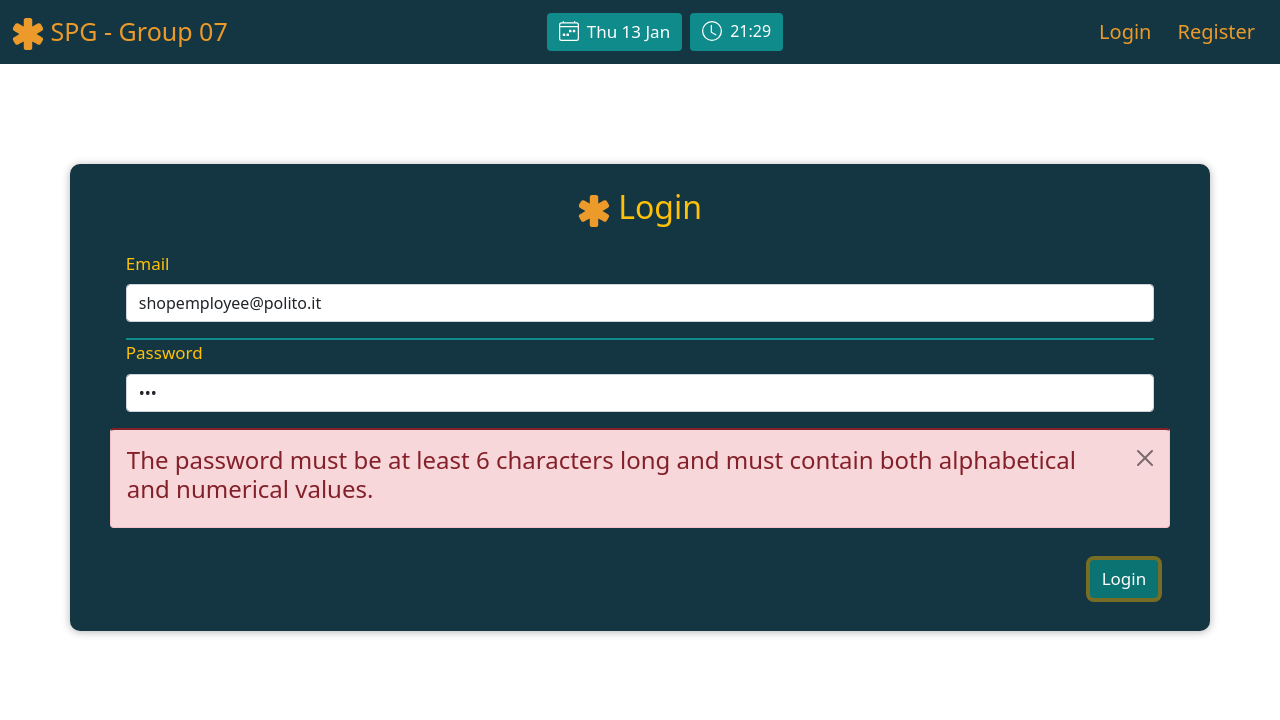
Test: SPG login (shopemployee) › invalid user
This screenshot has width=1280, height=720.
Type "qwerty1" into the password field labelled "Password".
click(640, 393); type("qwerty1")  # box top-left (126, 374), bottom-right (1154, 412)
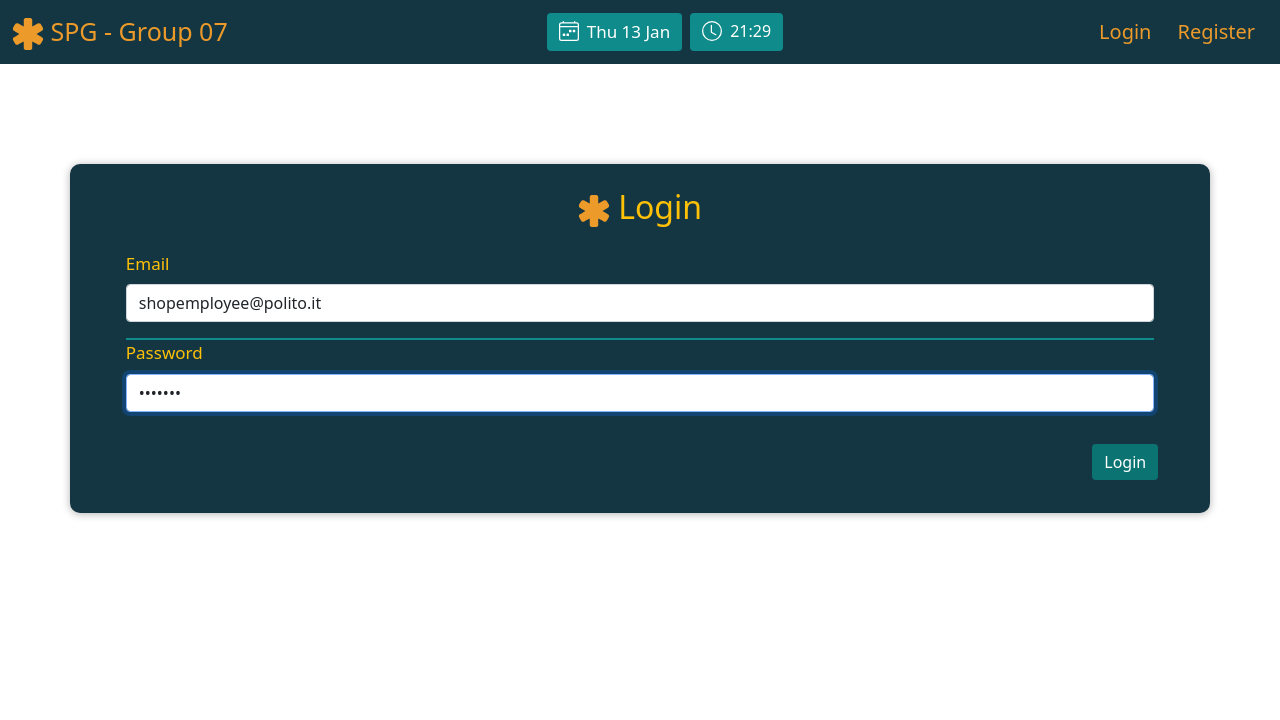
Click the button with class "loginbutton".
click(1125, 462)  # box top-left (1092, 444), bottom-right (1158, 480)
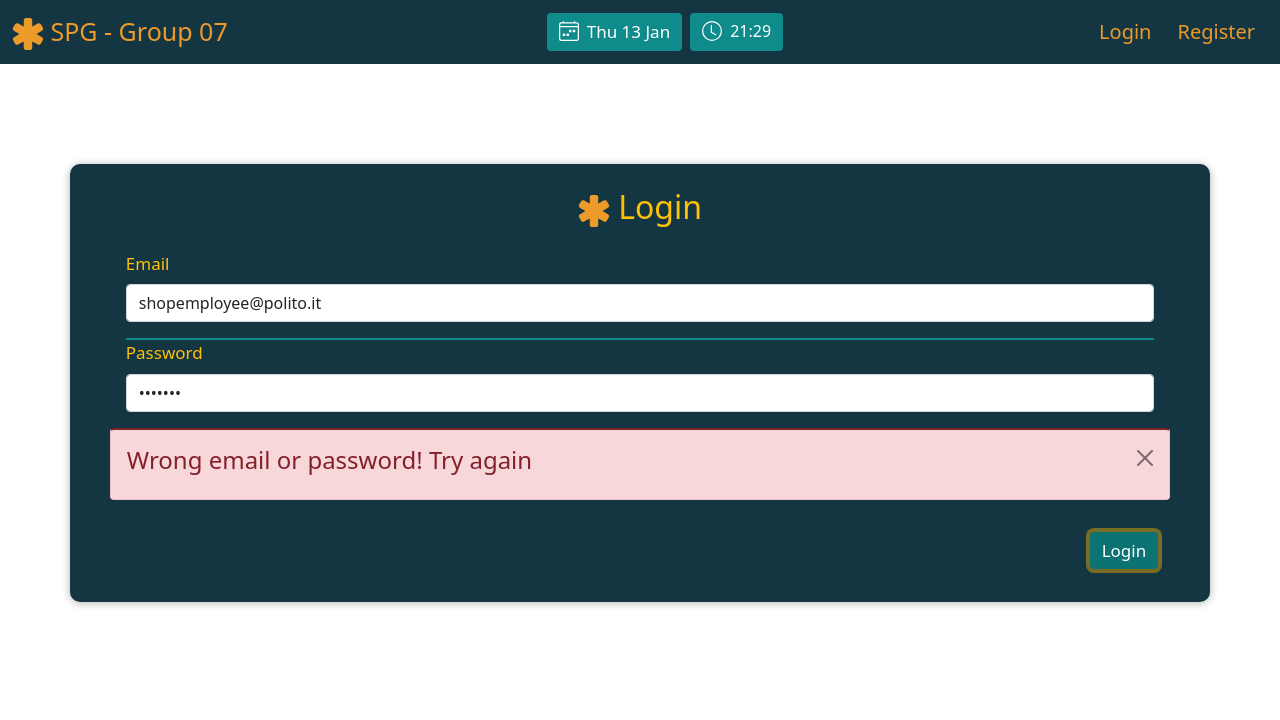
expect the text "Wrong email or password! Try again" is shown: met, box top-left (127, 443), bottom-right (532, 476)
